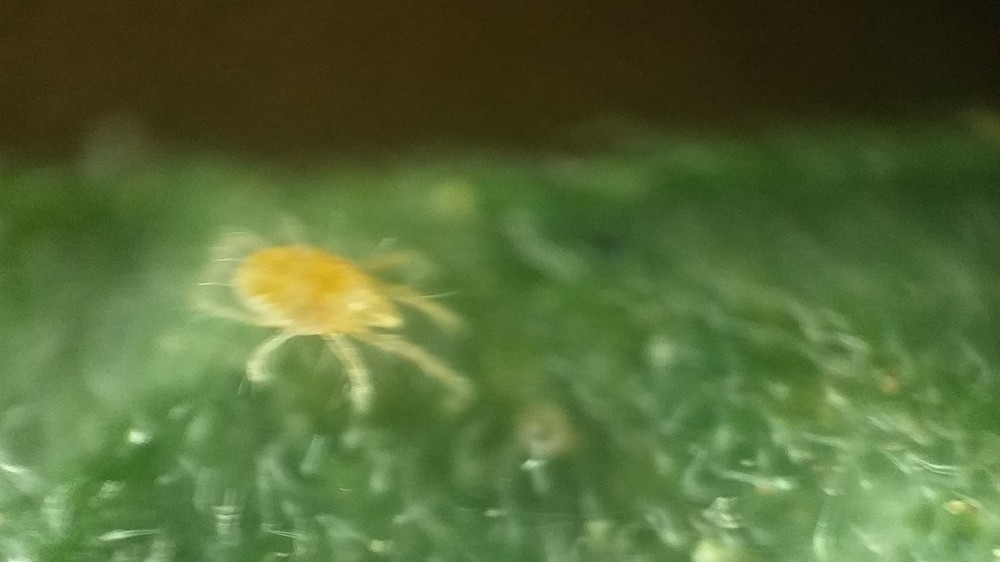Aracnido Rojo: (174, 198, 499, 429)
